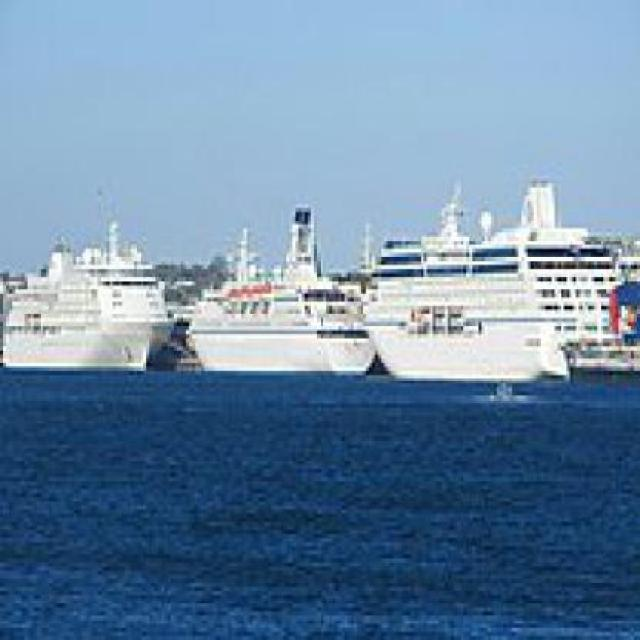cruise: (358, 172, 638, 389), (186, 200, 385, 380), (4, 209, 193, 376)
